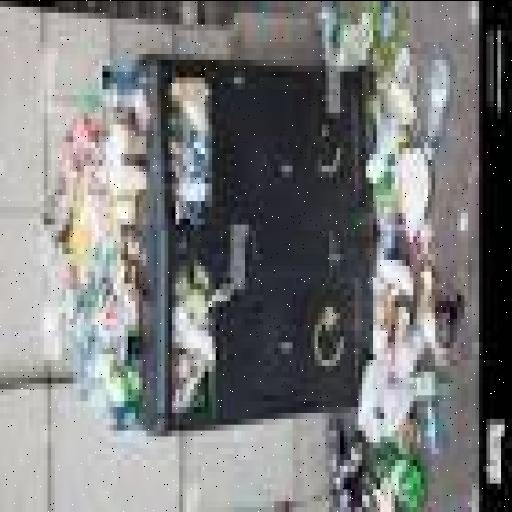poubelle_pleine: (46, 34, 394, 464)
